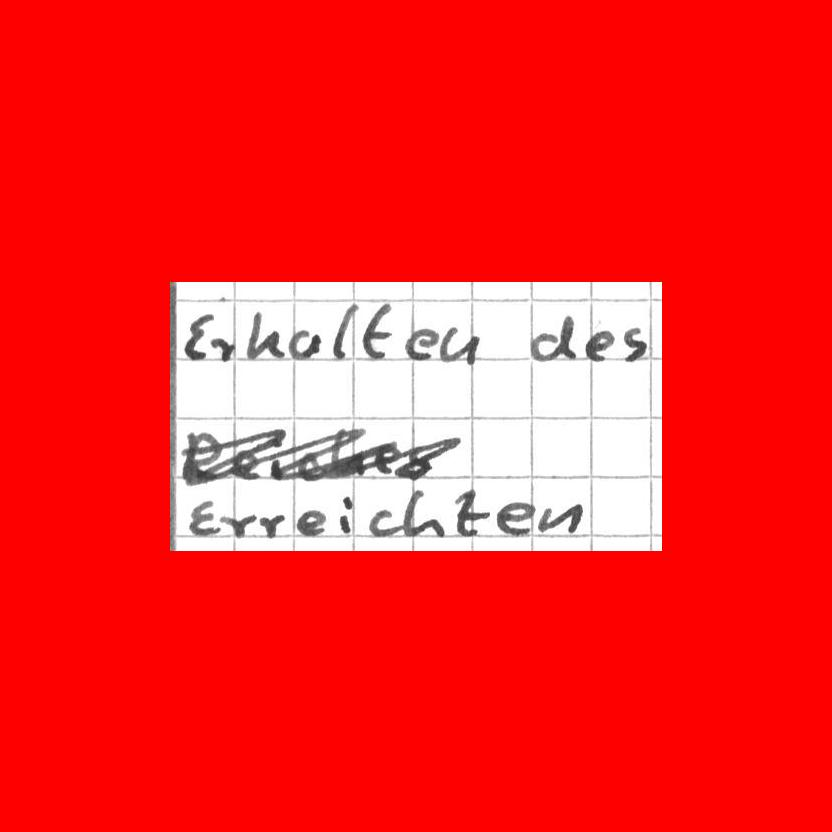Char: (527, 313, 579, 364), (359, 299, 398, 363), (401, 486, 448, 538), (244, 309, 284, 362), (451, 485, 492, 533), (439, 321, 481, 367), (332, 298, 360, 360), (538, 500, 583, 538), (184, 308, 214, 362), (496, 498, 534, 538), (403, 324, 437, 366), (285, 326, 324, 361), (187, 497, 221, 537), (218, 510, 258, 539), (582, 329, 617, 362), (619, 324, 646, 366), (336, 491, 357, 540), (256, 509, 288, 541), (206, 331, 239, 362), (370, 505, 400, 538), (295, 506, 326, 537)
